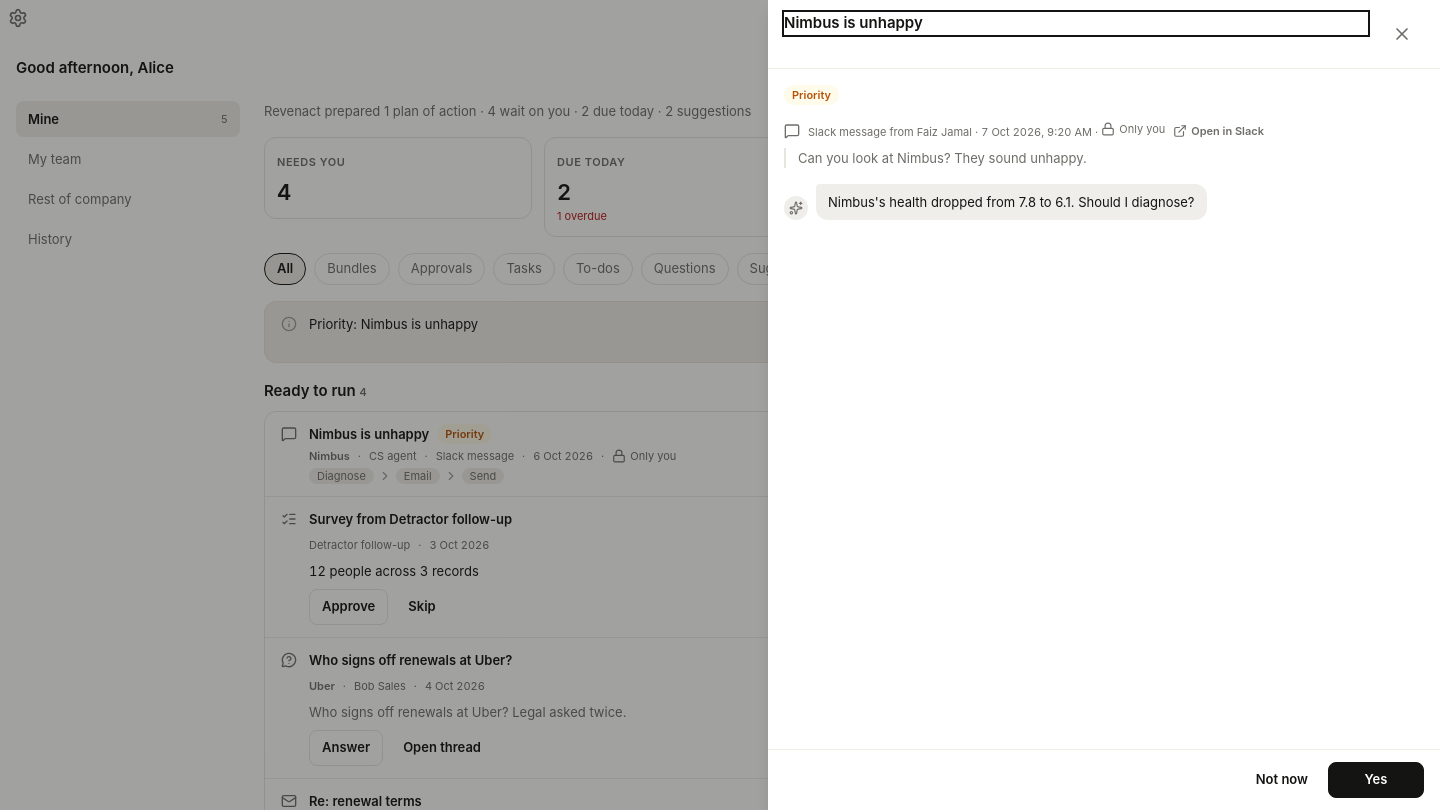
Guided conversation (guided agent, 2026-10-18) › Not now stops the bundle and says nothing else was done
Click the button "Not now".
click(1282, 780)  # box [1244,762,1320,798]
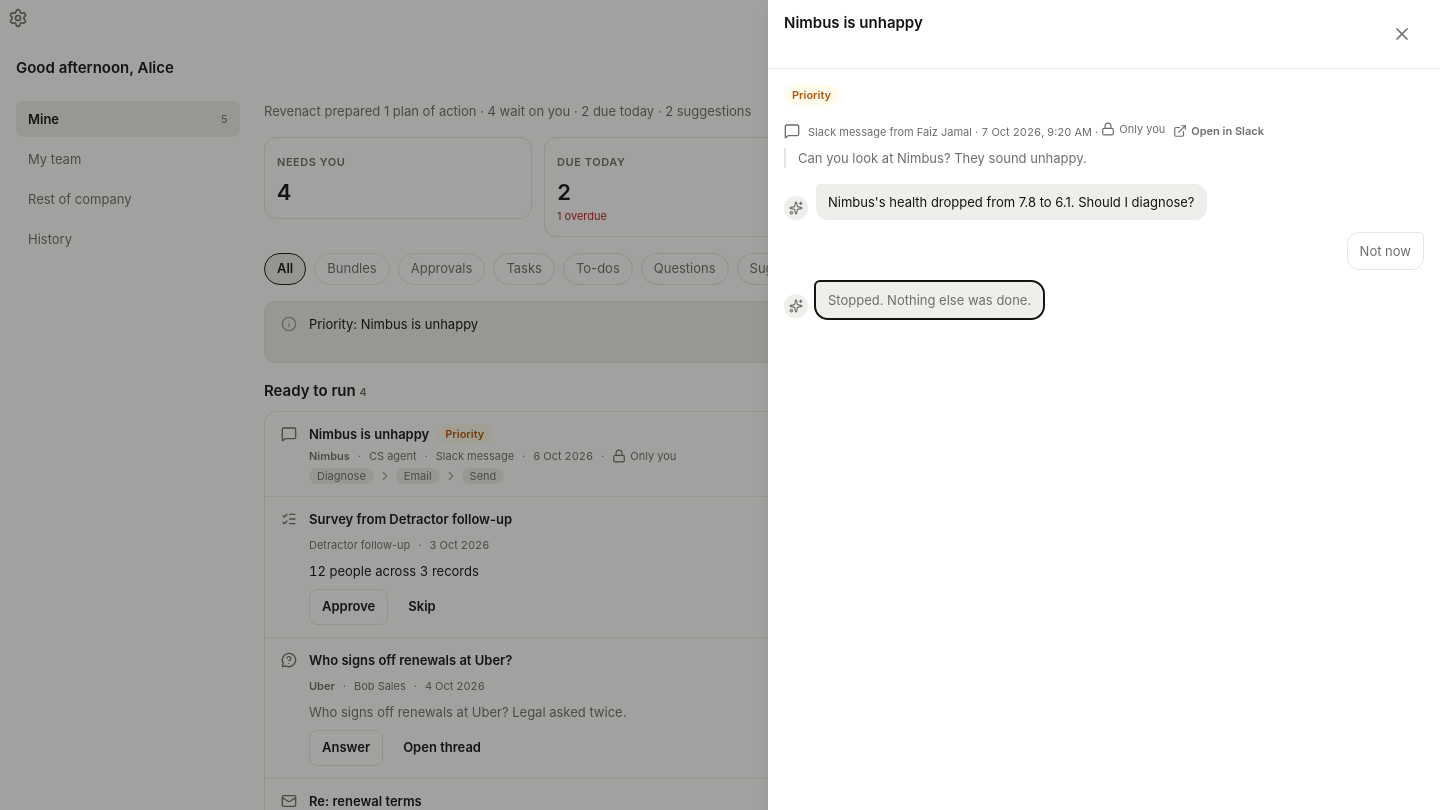
Expected: the text "Not now" is shown, [1347,232,1424,270]
Result: the text "Stopped. Nothing else was done." is shown at [828,290,1031,310]
